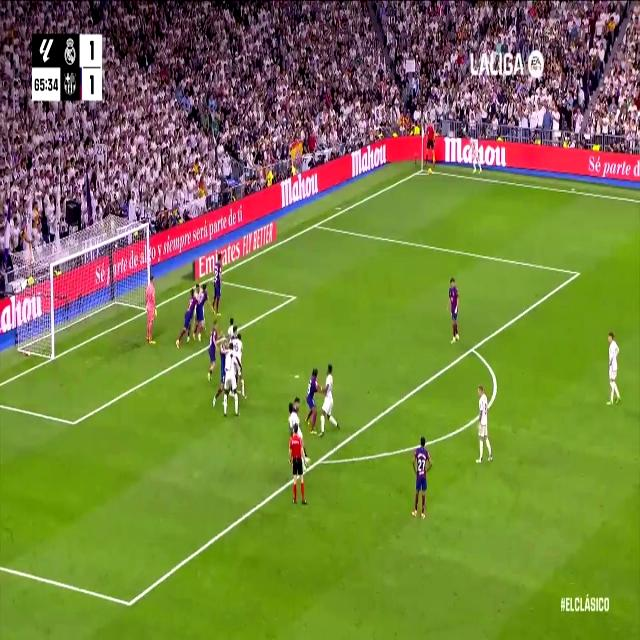bigarea_bottom_inner: (122, 585, 136, 620)
bigarea_top_inner: (574, 263, 582, 283)
bigarea_top_outter: (312, 216, 321, 232)
bottom_arc_area_intersection: (314, 449, 326, 470)
smallarea_bottom_inner: (69, 411, 79, 435)
smallarea_top_inner: (290, 288, 298, 306)
